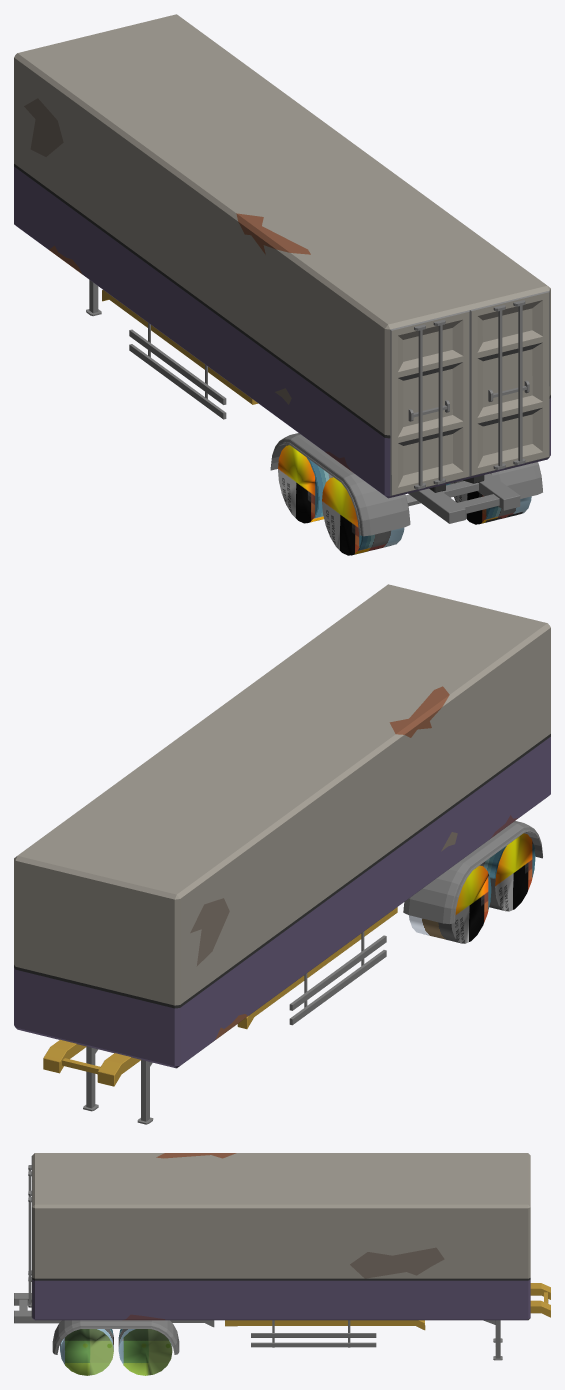
File: model_truck_container.fbx
3 renders of one model, top to bottom at view 1: azimuth 30°, elevation 25°; view 2: azimuth 150°, elevation 25°; view 3: azimuth 270°, elevation 25°, orthographic. The views are drawn at different scales.
Visible parts, largest first — view 1: model_truck_container, model_truck_container_col; view 2: model_truck_container_col, model_truck_container; view 3: model_truck_container_col, model_truck_container.
Part boxes in pixels (x1,y1,x2,y2): model_truck_container: (14,14,550,555); model_truck_container_col: (14,14,549,555); model_truck_container_col: (14,585,550,1124); model_truck_container: (21,584,550,1123); model_truck_container_col: (28,1153,548,1375); model_truck_container: (14,1153,550,1360).
Bounding box in the file's own units: 371 × 494 × 1412.
Materials: 1 (1 with a texture image).
